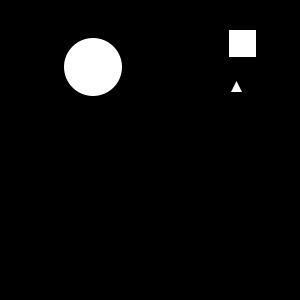circle: (229, 30, 256, 57)
rectangle: (64, 38, 122, 96)
triangle: (231, 81, 242, 92)
